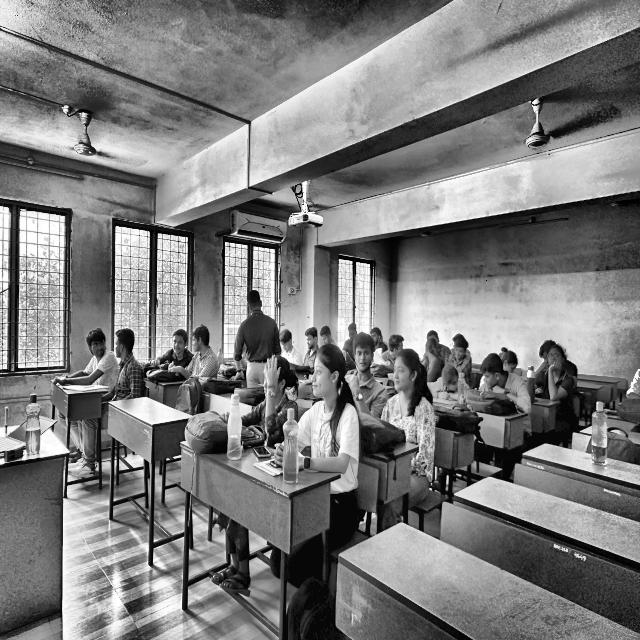Focus: (306, 345, 347, 407), (389, 346, 424, 397), (260, 358, 294, 406), (437, 365, 466, 404), (544, 345, 566, 374), (450, 331, 469, 364), (170, 327, 188, 358), (302, 326, 321, 349)
Not Focus: (352, 329, 378, 383), (477, 354, 509, 392), (112, 327, 135, 364), (83, 327, 108, 361), (191, 325, 212, 361), (239, 290, 266, 315), (424, 337, 440, 363)
